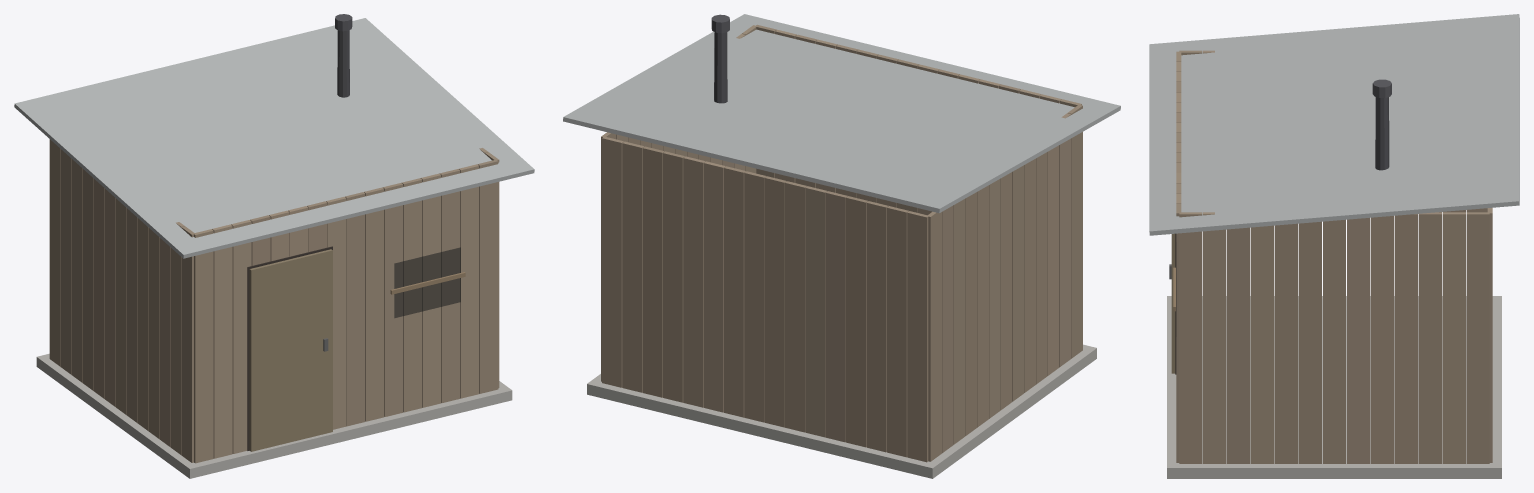
File: storm_rail_hut_a.glb
The picture shows the model from 3 angles, left to right: view 1: azimuth 30°, elevation 25°; view 2: azimuth 150°, elevation 25°; view 3: azimuth 270°, elevation 25°; orthographic projection. The views are drawn at different scales.
Visible parts, largest first — view 1: body; view 2: body; view 3: body.
Part boxes in pixels (x1,y1,x2,y2): body: (14,14,534,478); body: (563,14,1120,478); body: (1149,14,1519,478).
Size of what is drawn, in the model's own units: 3.7 by 3.3 by 3.09.
